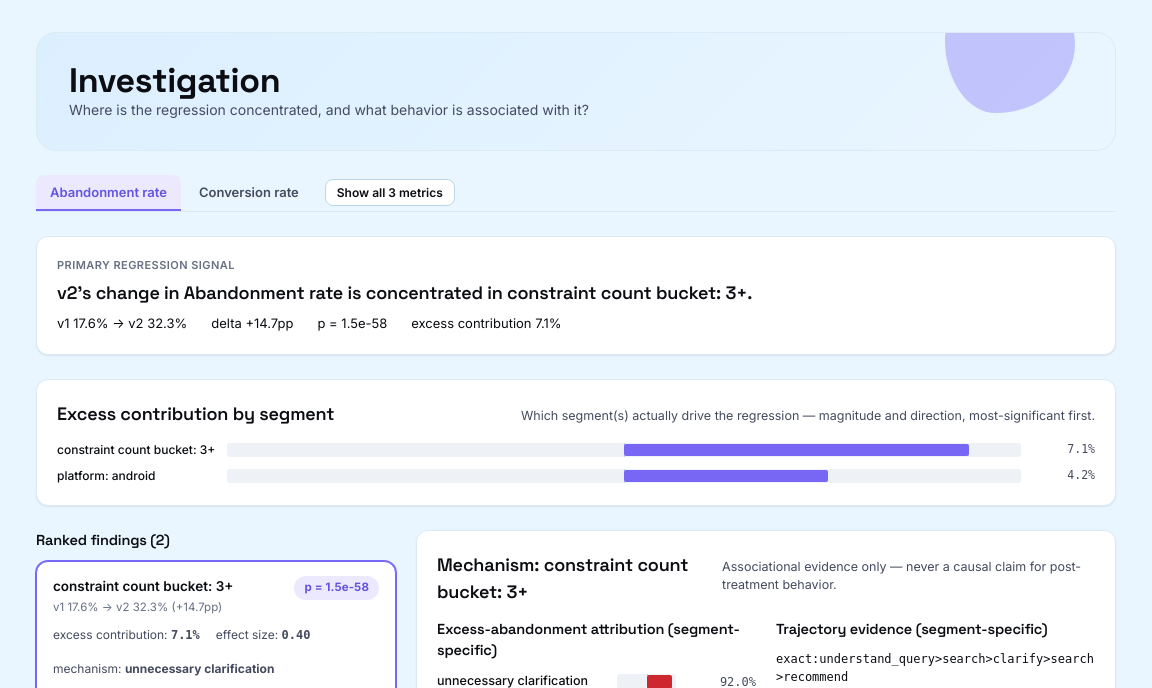
Investigation page › switches the primary metric without merging findings from different metrics
Expected: the heading "v2's change in Abandonment rate is concentrated in" is shown, [57,281,752,304]
Click the button "Conversion rate".
click(249, 193)  # box [185,175,313,211]
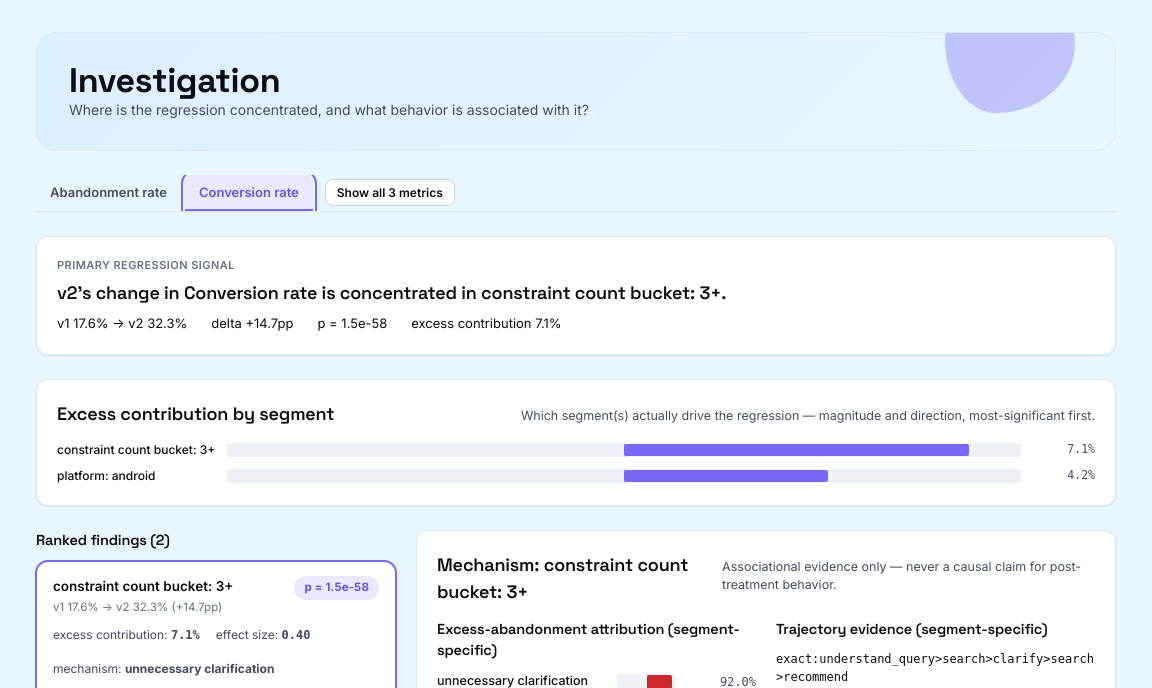
Expected: the heading "v2's change in Conversion rate is concentrated in" is shown, [57,281,726,304]
